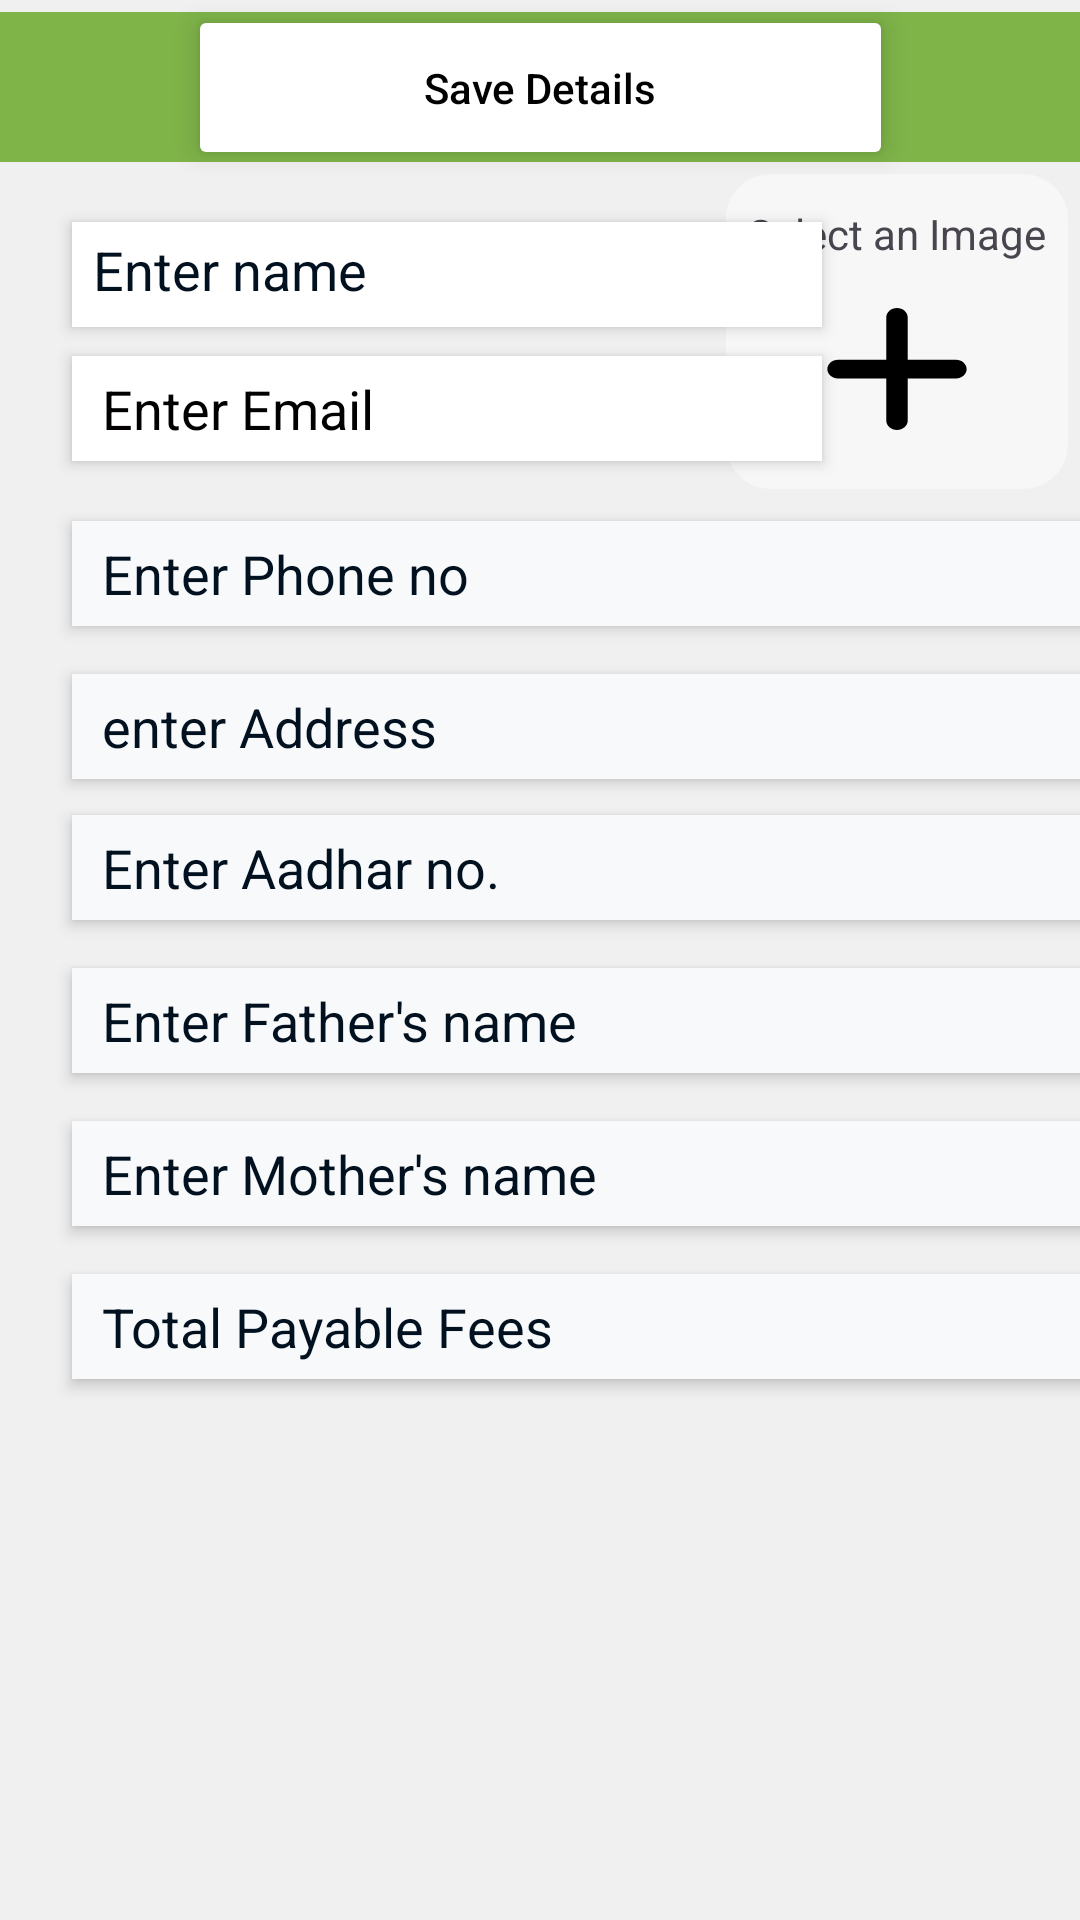

Icons on this 1080px x 1920px Android screen, each with the point to tap as (x,y):
plus: (897,369)
